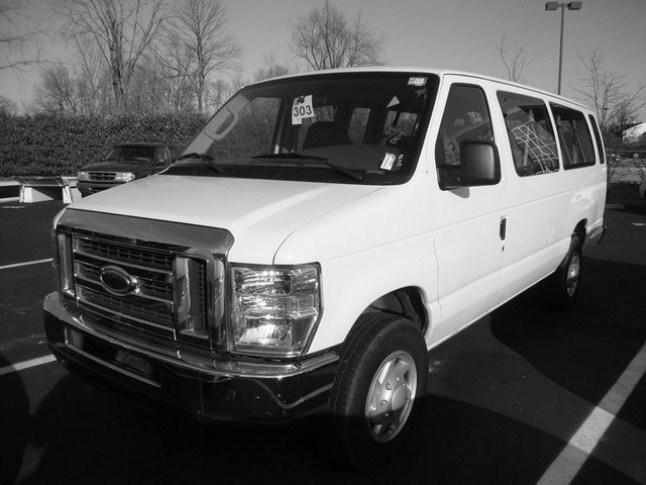car: (43, 69, 608, 452)
